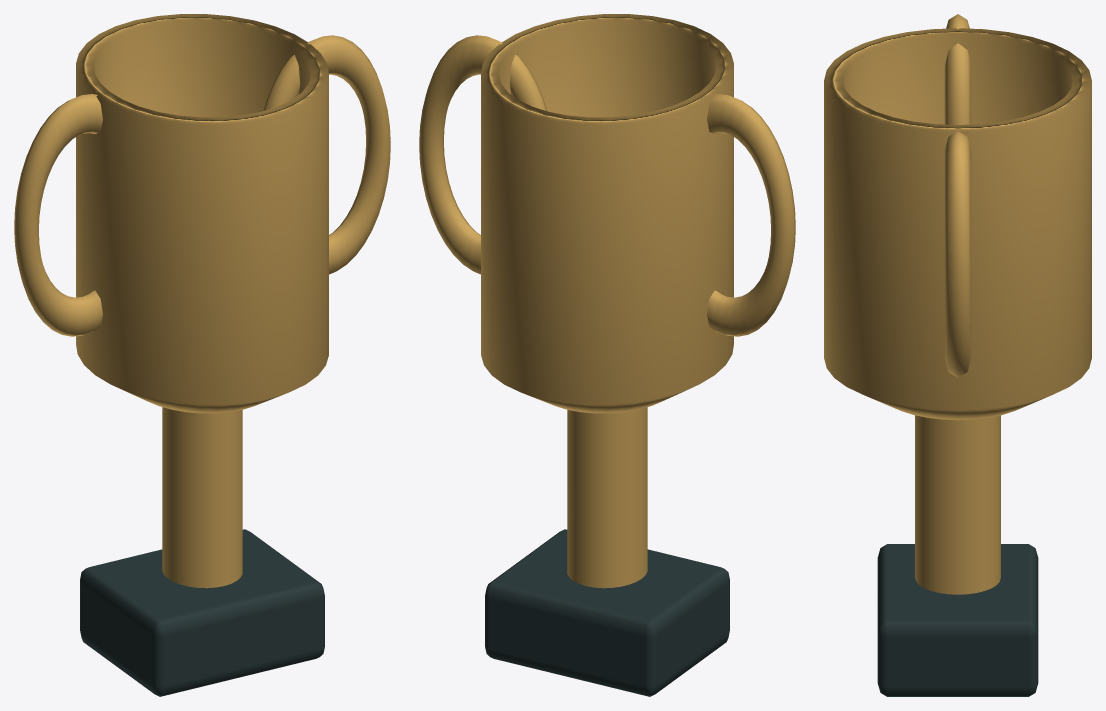
File: wp-trophee-de-tournoi.glb
The picture shows the model from 3 angles, left to right: view 1: azimuth 30°, elevation 25°; view 2: azimuth 150°, elevation 25°; view 3: azimuth 270°, elevation 25°; orthographic projection.
Parts seen in each view (by area): view 1: wp-trophee-de-tournoi; view 2: wp-trophee-de-tournoi; view 3: wp-trophee-de-tournoi.
Boxes of the visible parts, x1=… form: wp-trophee-de-tournoi: x1=14, y1=14, x2=390, y2=696; wp-trophee-de-tournoi: x1=419, y1=14, x2=795, y2=696; wp-trophee-de-tournoi: x1=824, y1=14, x2=1091, y2=696.
Size of the model in its own units: 0.4 by 0.6 by 0.25.
